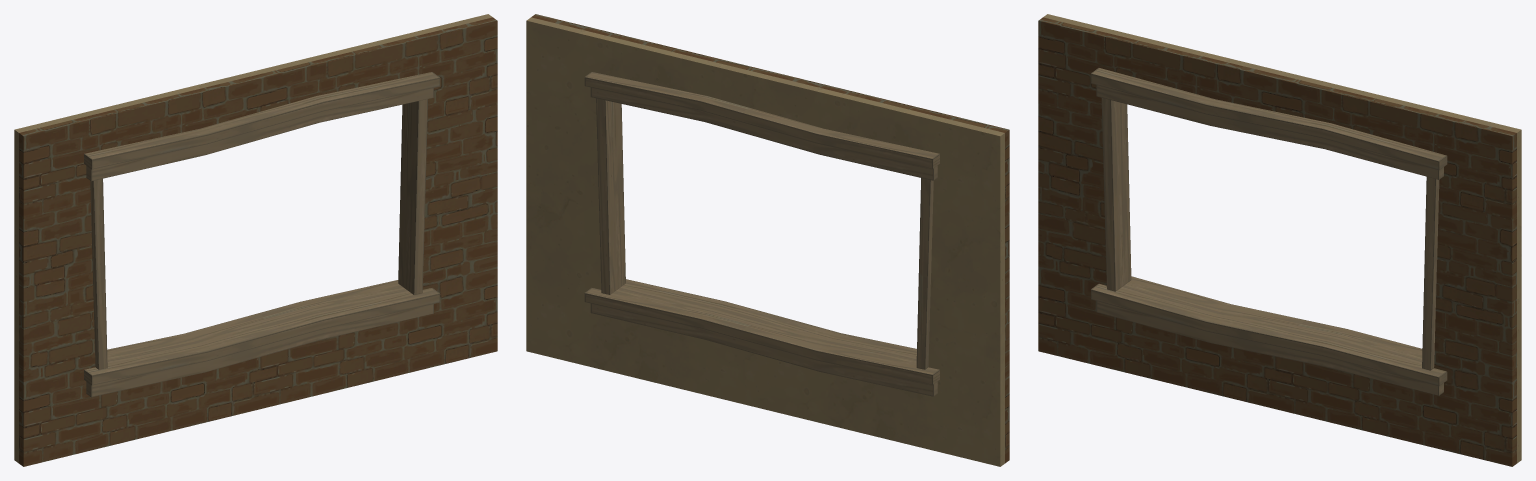
The model's file is SM_building_wall_26.glb.
3 views of the same model, side by side, from view 1: azimuth 30°, elevation 25°; view 2: azimuth 150°, elevation 25°; view 3: azimuth 330°, elevation 25° (orthographic).
Visible parts, largest first — view 1: SM_building_wall_26; view 2: SM_building_wall_26; view 3: SM_building_wall_26.
Boxes of the visible parts, x1,y1,x2,y2 form: SM_building_wall_26: [14, 14, 497, 466]; SM_building_wall_26: [526, 14, 1009, 466]; SM_building_wall_26: [1038, 14, 1521, 466].
Bounding box in the file's own units: 6 × 4 × 0.5327.
Materials: 3 (3 with a texture image).
